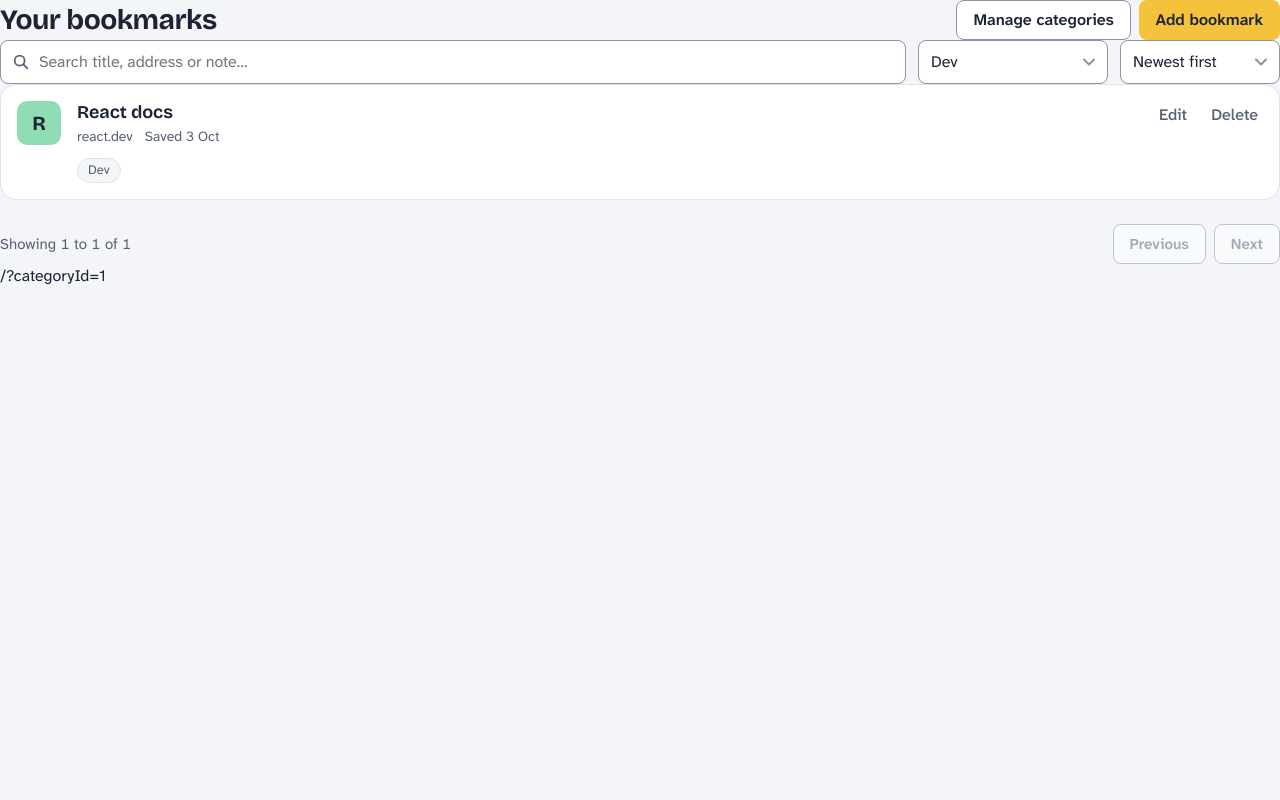
Test case: Manage categories › deletes the category that is being filtered by, and clears that filter
Check: the link "React docs" is shown, box [77, 101, 173, 123]
Step 1. Click the button "Manage categories" → [1044, 20], box [956, 0, 1131, 40]
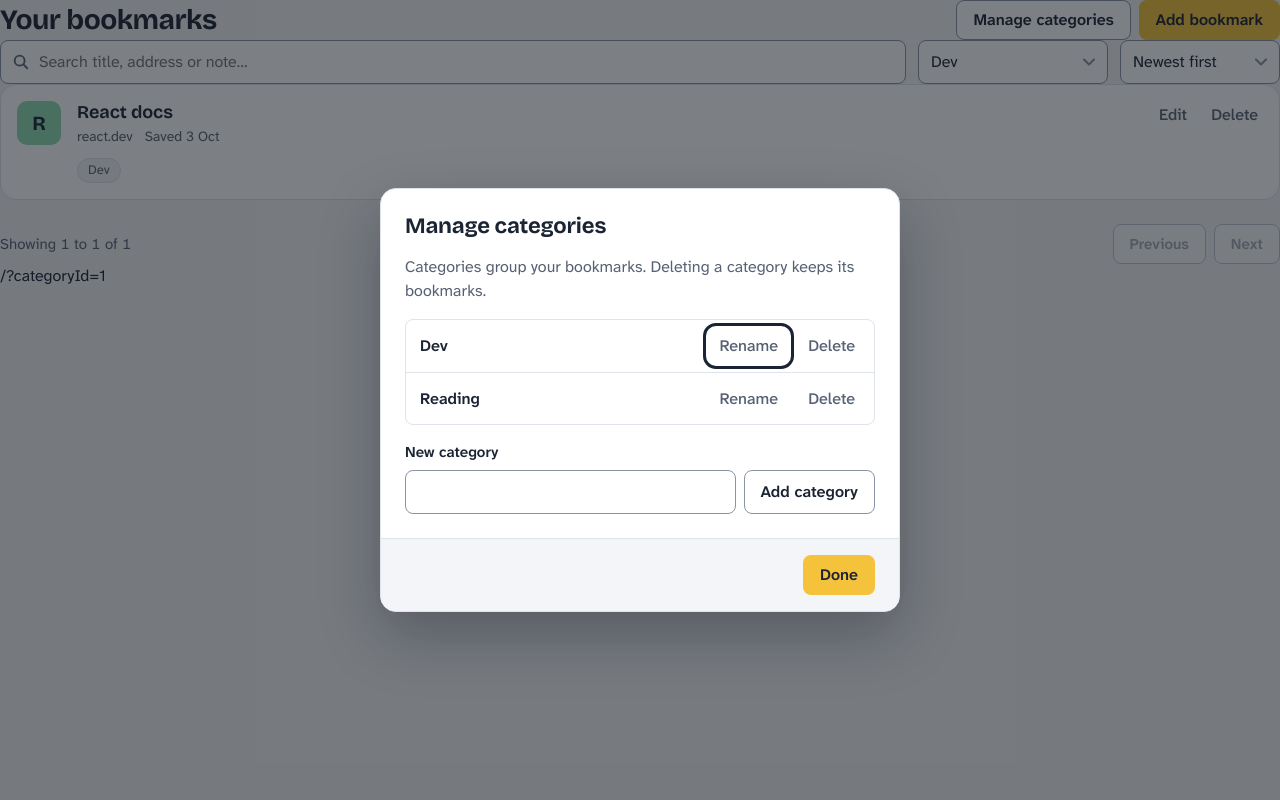
Step 2. Click the button with aria-label "Delete Dev" → [832, 346], box [797, 328, 866, 364]
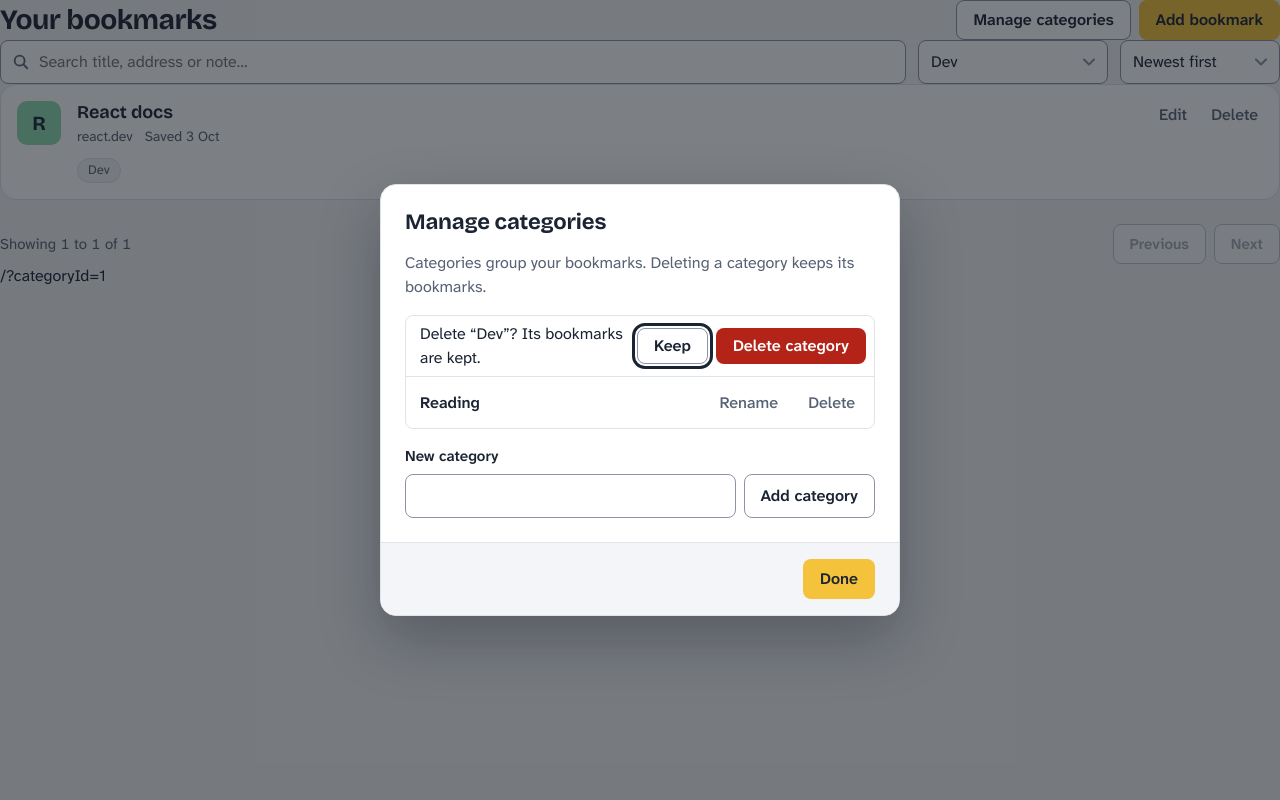
Step 3. Click the button "Delete category" → [791, 346], box [716, 328, 866, 364]
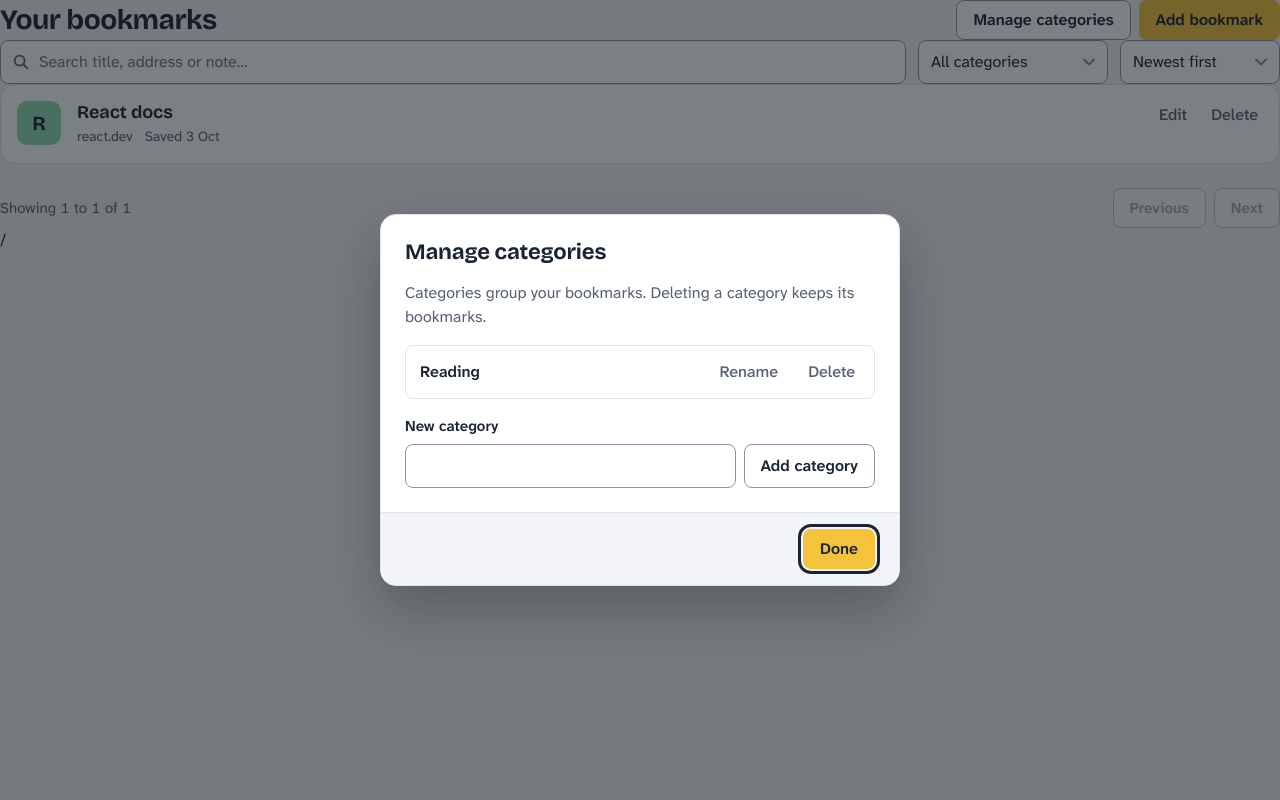
Check: the link "React docs" is shown, box [77, 101, 173, 123]
Check: the text with test id "address" reads "/", box [0, 229, 6, 250]
